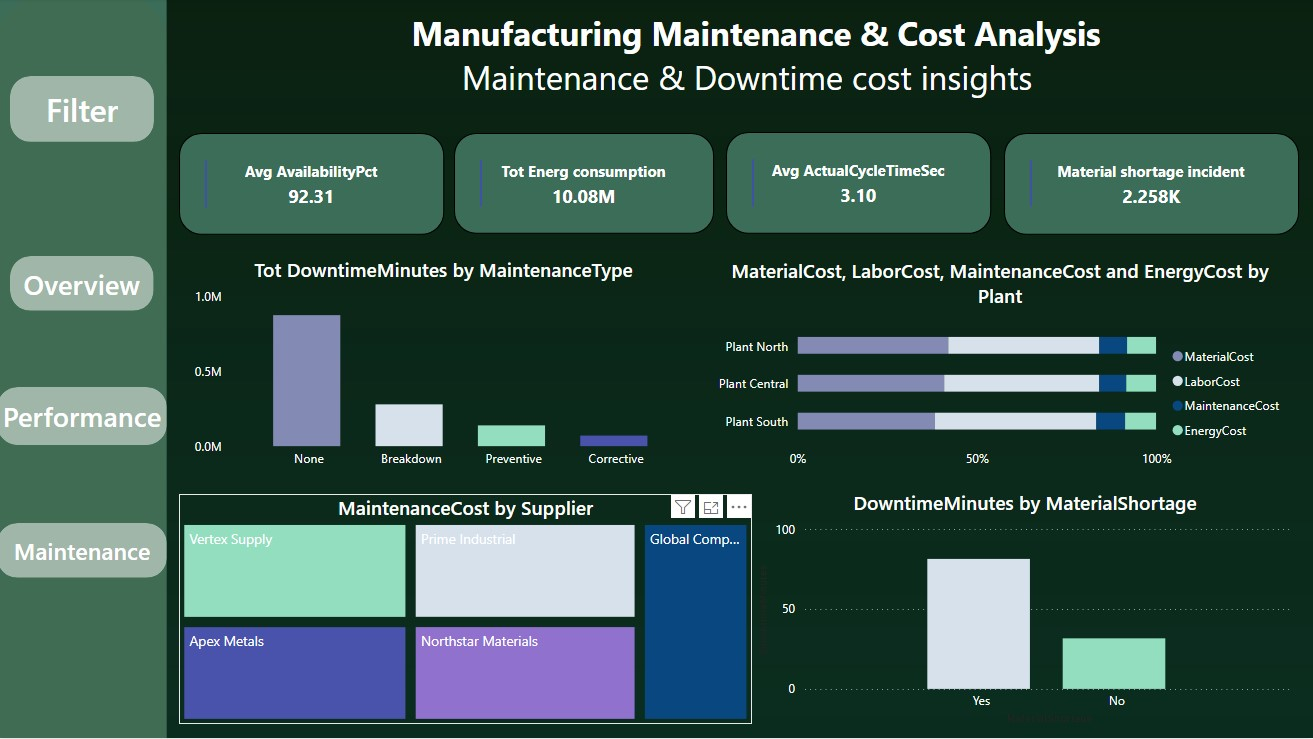

Layout of this report page (visuals, bound fields, positions):
{"tool":"powerbi","page":{"name":"Maintenance ","canvas":[1280,720],"ordinal":2},"visuals":[{"type":"textbox","box":[373.5,6.8,729.5,101.2],"z":0},{"type":"cardVisual","fields":{"Data":["Avg(Production_Data.AvailabilityPct)"]},"box":[177,131.3,257.8,99.2],"z":1000},{"type":"cardVisual","fields":{"Data":["Sum(Production_Data.EnergyKWh)"]},"box":[444.5,131.3,252.9,98.2],"z":2000},{"type":"cardVisual","fields":{"Data":["Avg(Production_Data.ActualCycleTimeSec)"]},"box":[709.1,130.3,257.8,99.2],"z":3000},{"type":"cardVisual","fields":{"Data":["CountNonNull(Production_Data.ProductionID)"]},"box":[979,131.5,286.6,98.6],"z":4000},{"type":"shape","box":[0,0,165.3,719.8],"z":5000},{"type":"clusteredColumnChart","fields":{"Category":["Production_Data.MaintenanceType"],"Y":["Sum(Production_Data.DowntimeMinutes)"]},"box":[186.7,250.9,495.1,215],"z":6000},{"type":"hundredPercentStackedBarChart","fields":{"Category":["Production_Data.Plant"],"Y":["Sum(Production_Data.MaterialCost)","Sum(Production_Data.LaborCost)","Sum(Production_Data.MaintenanceCost)","Sum(Production_Data.EnergyCost)"]},"box":[689.6,251.9,571.9,214],"z":7000},{"type":"treemap","fields":{"Group":["Production_Data.Supplier"],"Values":["Sum(Production_Data.MaintenanceCost)"]},"box":[177,482.4,557.3,223.7],"z":8000},{"type":"clusteredColumnChart","fields":{"Category":["Production_Data.MaterialShortage"],"Y":["Avg(Production_Data.DowntimeMinutes)"]},"box":[734.3,477.6,531.1,233.4],"z":9000},{"type":"actionButton","box":[12.6,75.9,140.1,64.2],"z":10000},{"type":"actionButton","box":[12.3,250.7,139.7,53.4],"z":12000},{"type":"actionButton","box":[0,378,165.4,56.5],"z":13000},{"type":"actionButton","box":[0,510.6,165.4,53.4],"z":14000}]}

Visuals, with their boxes in screenshot pixels (x1, y1, x2, y2), scaled from the page's 1280x720 canvas onto the 1313x739 screenshot:
textbox: [x1=383, y1=7, x2=1131, y2=111]
cardVisual - Avg(Production_Data.AvailabilityPct): [x1=182, y1=135, x2=446, y2=237]
cardVisual - Sum(Production_Data.EnergyKWh): [x1=456, y1=135, x2=715, y2=236]
cardVisual - Avg(Production_Data.ActualCycleTimeSec): [x1=727, y1=134, x2=992, y2=236]
cardVisual - CountNonNull(Production_Data.ProductionID): [x1=1004, y1=135, x2=1298, y2=236]
shape: [x1=0, y1=0, x2=170, y2=738]
clusteredColumnChart - Production_Data.MaintenanceType x Sum(Production_Data.DowntimeMinutes): [x1=192, y1=258, x2=699, y2=478]
hundredPercentStackedBarChart - Production_Data.Plant x Sum(Production_Data.MaterialCost): [x1=707, y1=259, x2=1294, y2=478]
treemap - Production_Data.Supplier x Sum(Production_Data.MaintenanceCost): [x1=182, y1=495, x2=753, y2=725]
clusteredColumnChart - Production_Data.MaterialShortage x Avg(Production_Data.DowntimeMinutes): [x1=753, y1=490, x2=1298, y2=730]
actionButton: [x1=13, y1=78, x2=157, y2=144]
actionButton: [x1=13, y1=257, x2=156, y2=312]
actionButton: [x1=0, y1=388, x2=170, y2=446]
actionButton: [x1=0, y1=524, x2=170, y2=579]
